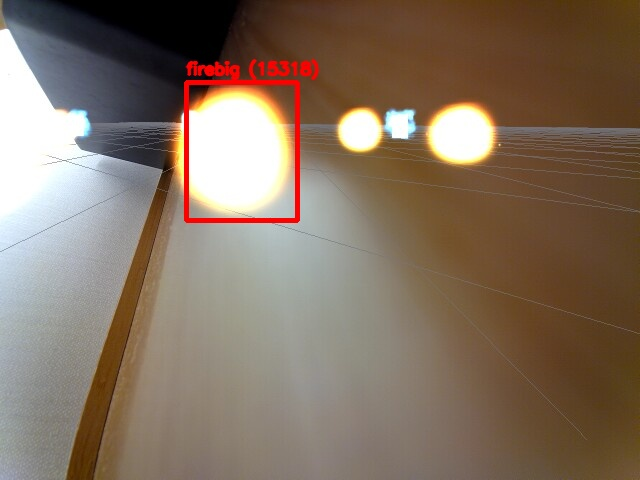firebig: (186, 82, 297, 220)
